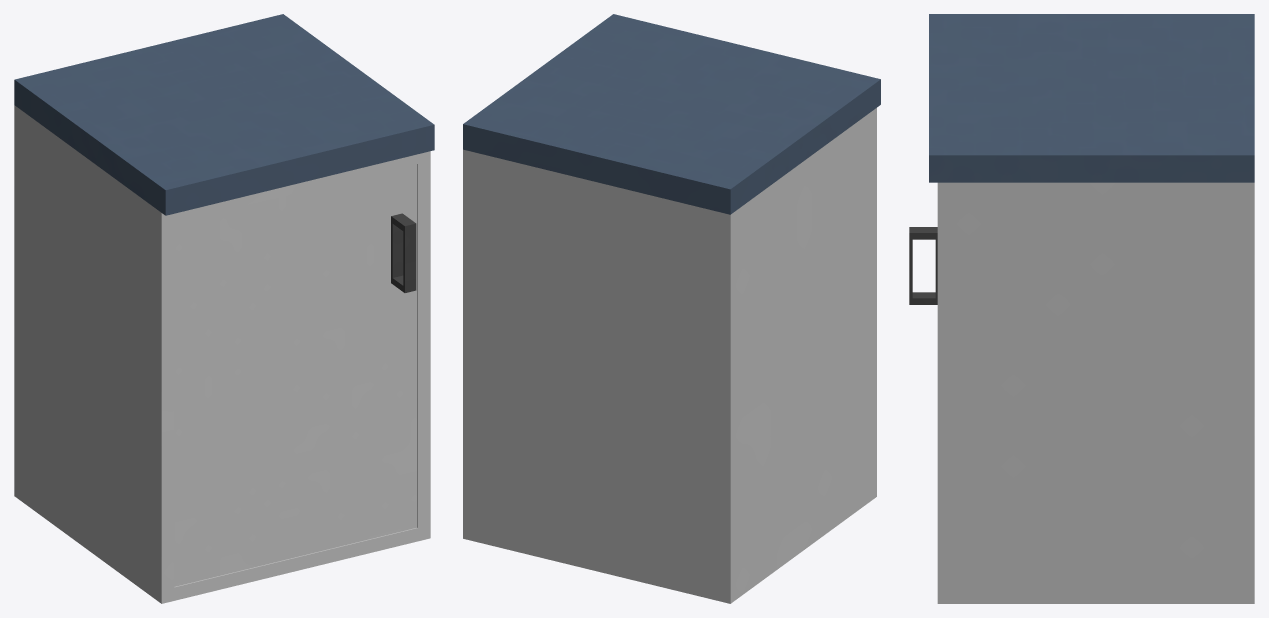
File: Cabinet_01_02.fbx
3 renders of one model, left to right at view 1: azimuth 30°, elevation 25°; view 2: azimuth 150°, elevation 25°; view 3: azimuth 270°, elevation 25°, orthographic. The views are drawn at different scales.
Visible parts, largest first — view 1: Cabinet_01_02, Carbinet_01_Door.001; view 2: Cabinet_01_02; view 3: Cabinet_01_02, Carbinet_01_Door.001.
Boxes of the visible parts, x1,y1,x2,y2 form: Cabinet_01_02: (14,14,434,603); Carbinet_01_Door.001: (174,164,416,586); Cabinet_01_02: (463,14,880,603); Cabinet_01_02: (929,14,1254,603); Carbinet_01_Door.001: (909,227,937,304).
Size of the model in its own units: 0.5293 by 0.7839 by 0.5471.
